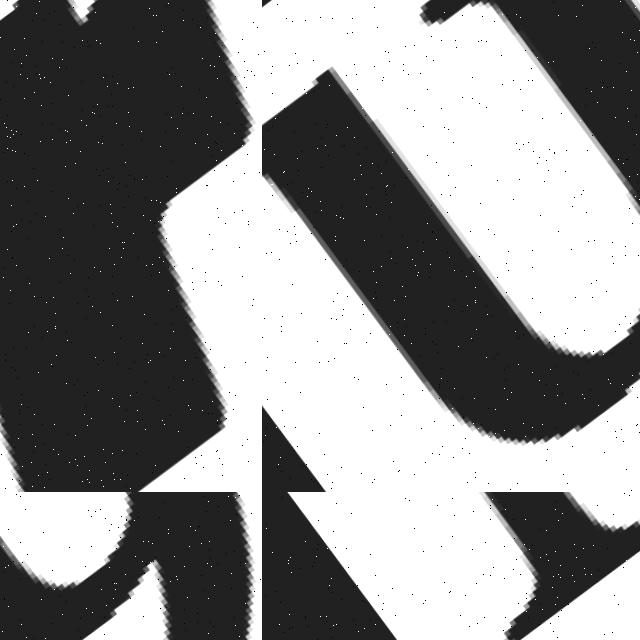9: (0, 492, 262, 640)
N: (262, 492, 640, 640)
R: (0, 0, 262, 492)
U: (262, 0, 640, 492)
